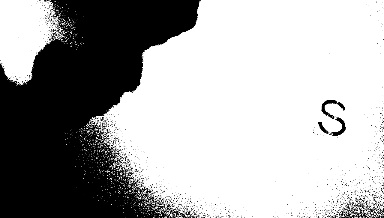S: (311, 92, 352, 138)
